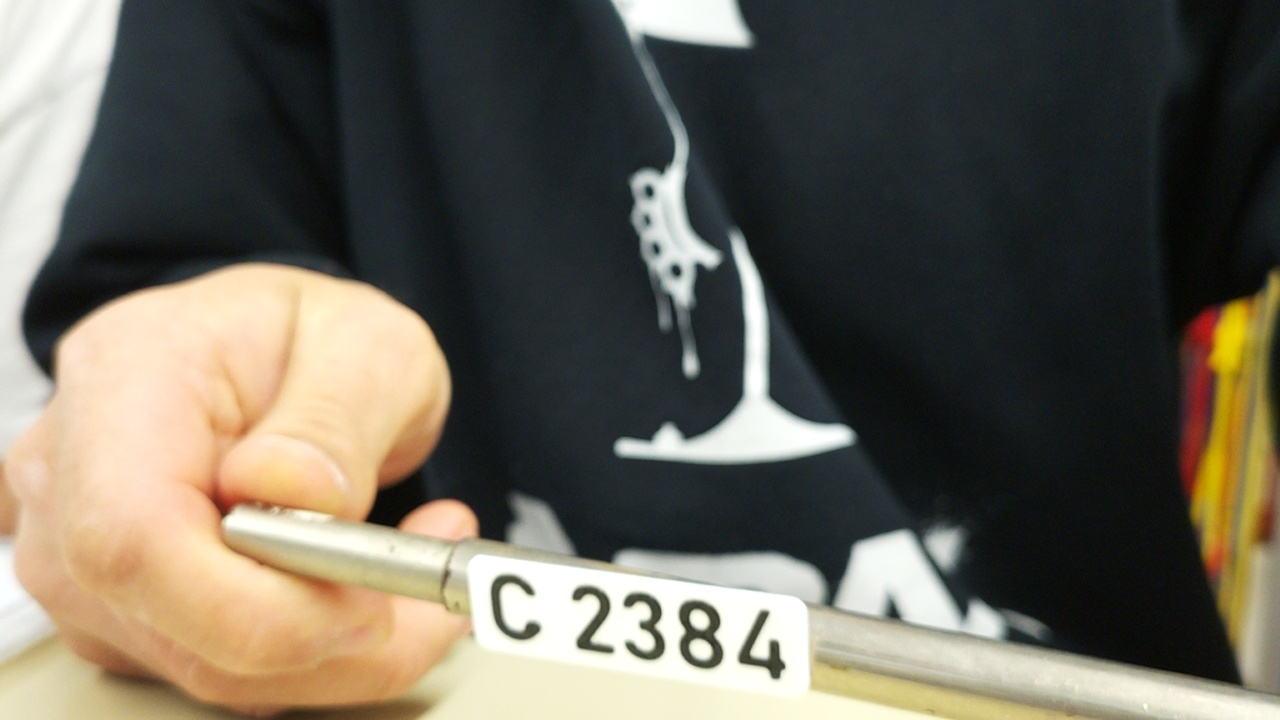license_plate: (467, 550, 812, 700)
